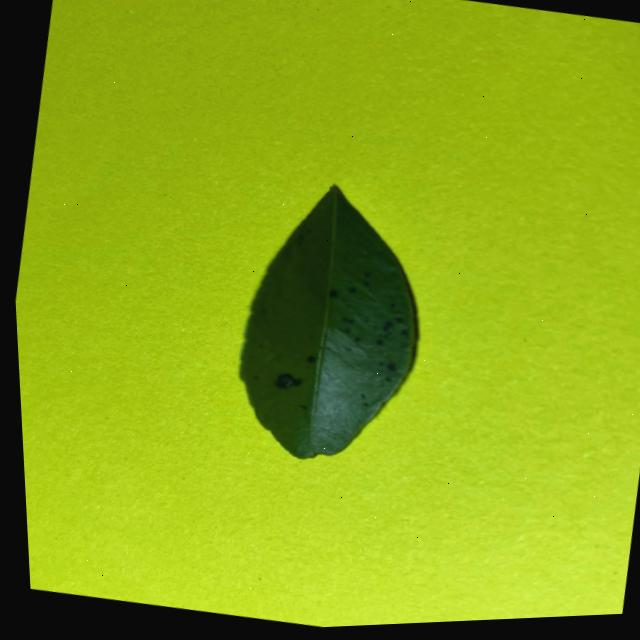sooty_mold: (239, 185, 416, 458)
